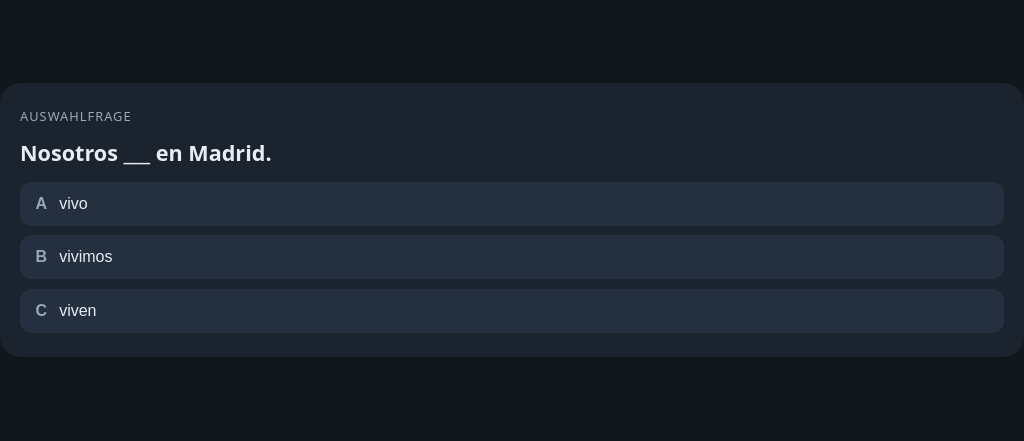
ChoiceCard › wertet die richtige Antwort als richtig
Click the button "B vivimos". click: [86, 257]
box: [20,235,1004,279]
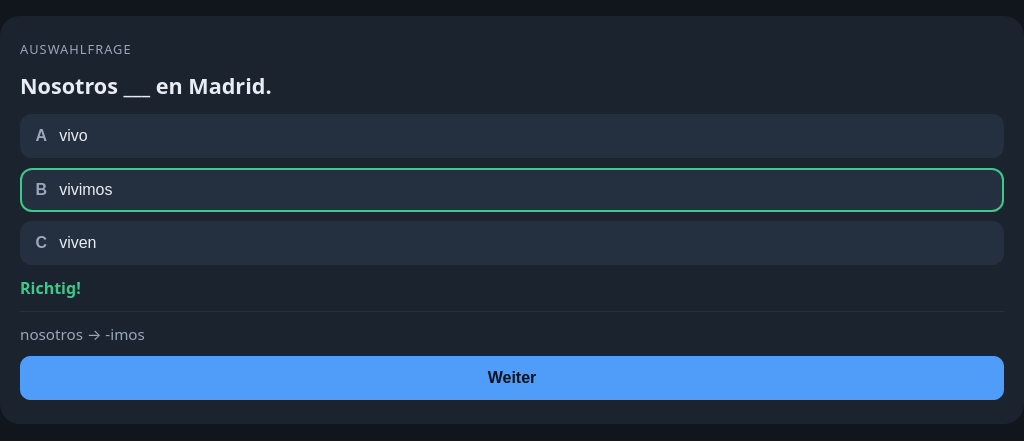
Expected: the text "Richtig!" is shown, [20,277,81,299]
